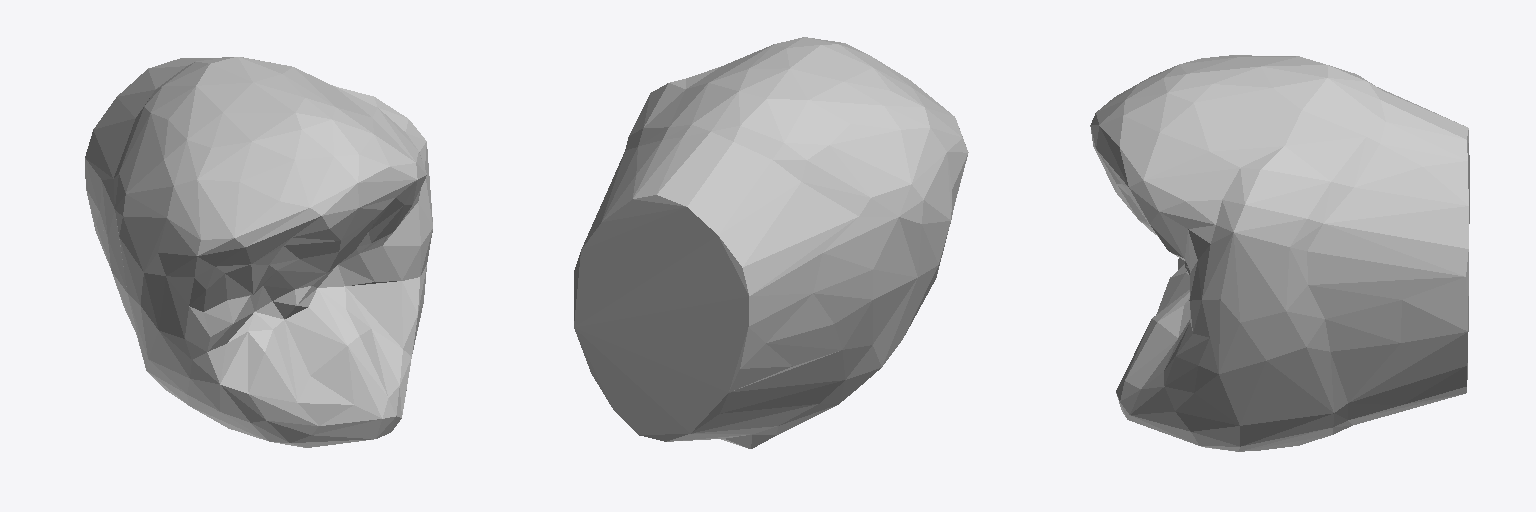
File: local_t14_7780_si.OBJ
3 views of the same model, side by side, from view 1: azimuth 30°, elevation 25°; view 2: azimuth 150°, elevation 25°; view 3: azimuth 270°, elevation 25° (orthographic).
Parts seen in each view (by area): view 1: Group64744; view 2: Group64744; view 3: Group64744.
Part boxes in pixels (x1,y1,x2,y2): Group64744: (85, 57, 432, 447); Group64744: (574, 37, 968, 448); Group64744: (1090, 55, 1469, 451).
Bounding box in the file's own units: 7.89 × 9.37 × 8.78.